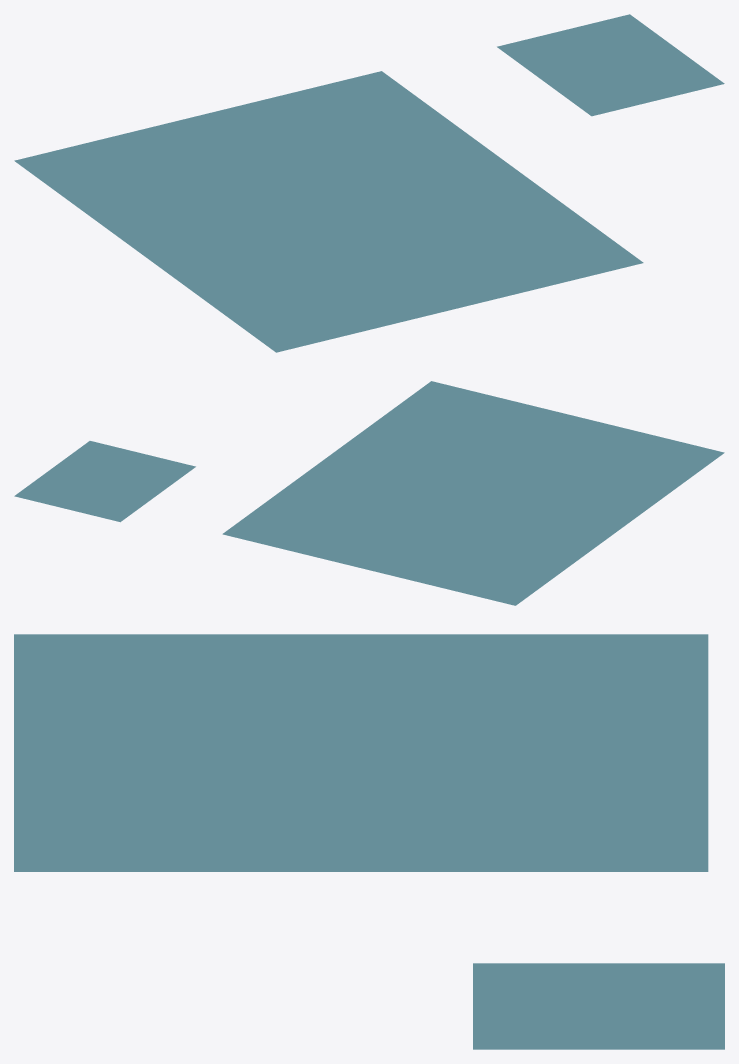
File: Level_2_Water.fbx
3 renders of one model, top to bottom at view 1: azimuth 30°, elevation 25°; view 2: azimuth 150°, elevation 25°; view 3: azimuth 270°, elevation 25°, orthographic. The views are drawn at different scales.
Parts seen in each view (by area): view 1: pPlane9; view 2: pPlane9; view 3: pPlane9.
Boxes of the visible parts, bbox=[...] form: pPlane9: bbox=[14, 14, 724, 352]; pPlane9: bbox=[14, 381, 724, 605]; pPlane9: bbox=[14, 634, 724, 1049].
Bounding box in the file's own units: 14 × 0.2121 × 10.46.
